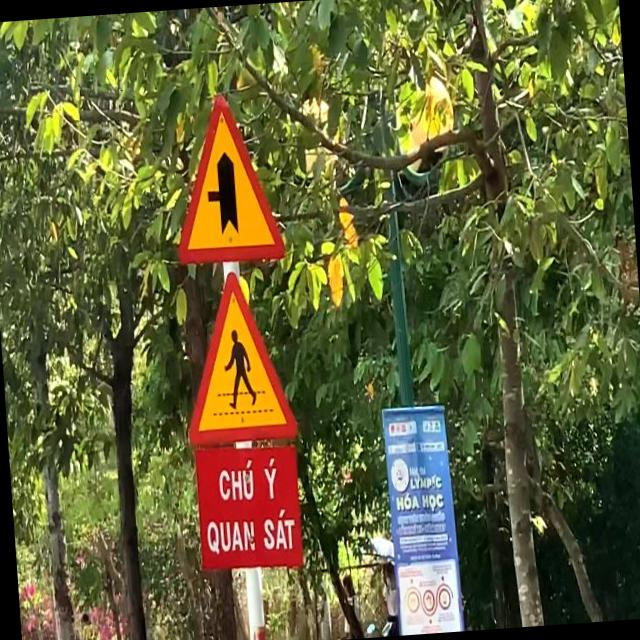W-207c: (166, 88, 282, 264)
W-224: (171, 264, 298, 441)
